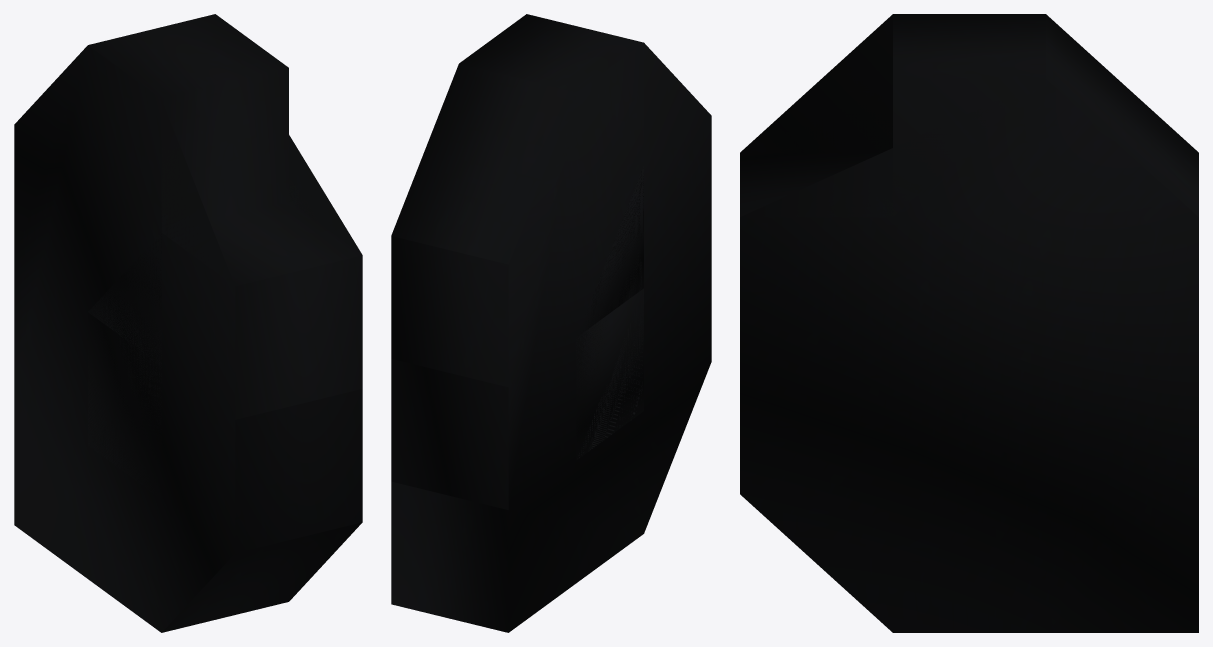
The picture shows the model from 3 angles, left to right: view 1: azimuth 30°, elevation 25°; view 2: azimuth 150°, elevation 25°; view 3: azimuth 270°, elevation 25°; orthographic projection. The views are drawn at different scales.
Size of the model in its own units: 0.24 by 0.96 by 0.72.
1 material, 1 textured.
